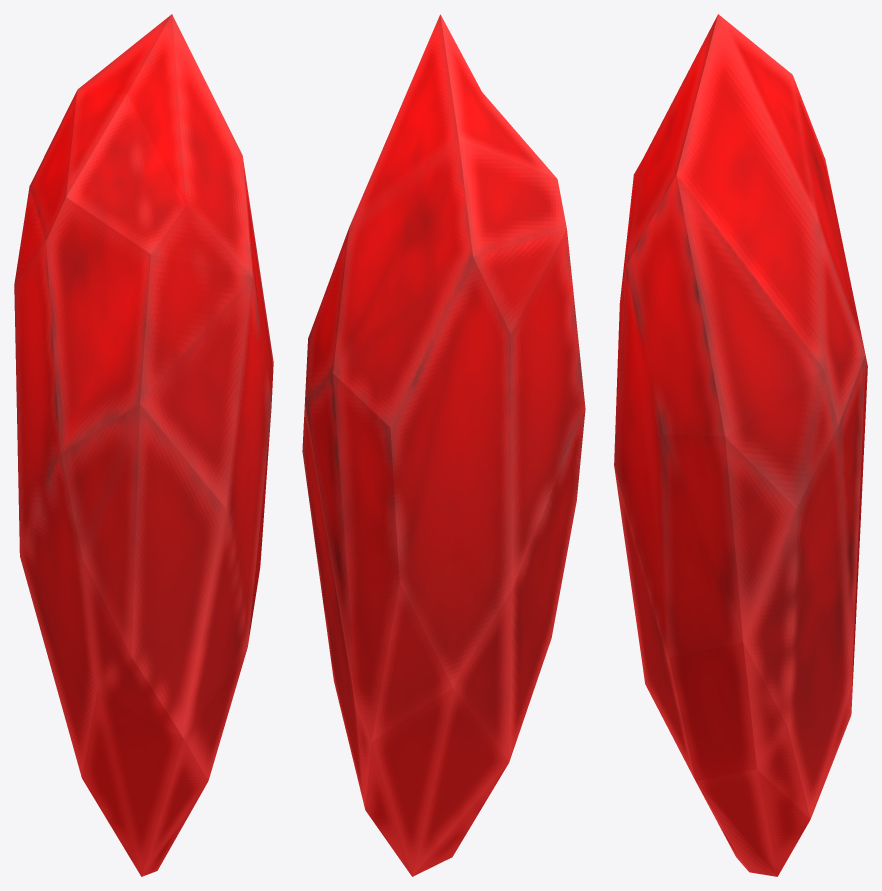
File: Projectile.fbx
3 views of the same model, side by side, from view 1: azimuth 30°, elevation 25°; view 2: azimuth 150°, elevation 25°; view 3: azimuth 270°, elevation 25° (orthographic). The views are drawn at different scales.
Visible parts, largest first — view 1: Projectile; view 2: Projectile; view 3: Projectile.
Boxes of the visible parts, x1,y1,x2,y2 form: Projectile: [14, 14, 273, 876]; Projectile: [302, 14, 585, 876]; Projectile: [614, 14, 867, 876].
Bounding box in the file's own units: 251 × 888 × 237.
